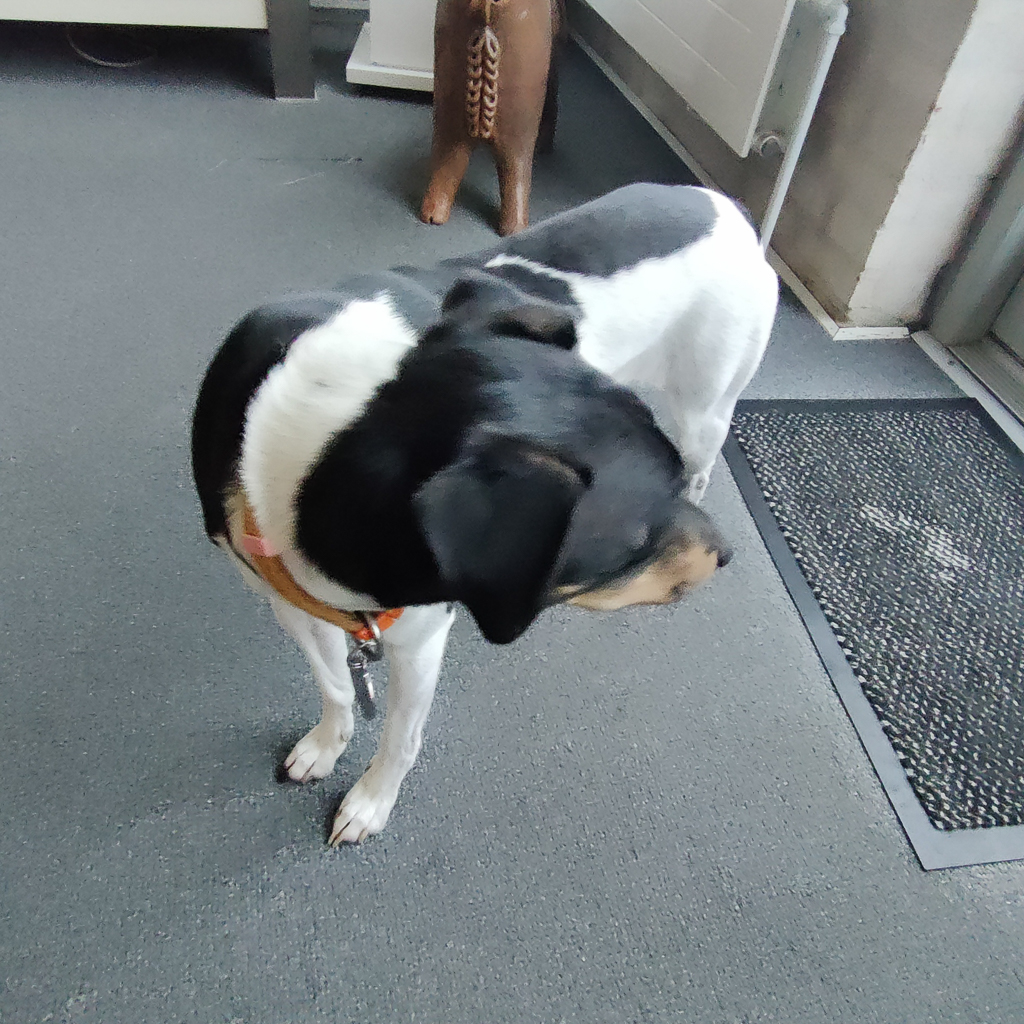Cattle: (404, 0, 576, 245)
Dog: (172, 166, 802, 868)
